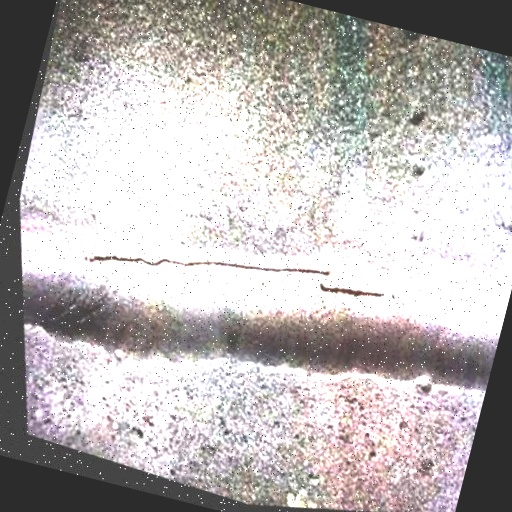crack: (65, 181, 350, 352), (304, 264, 389, 323)
